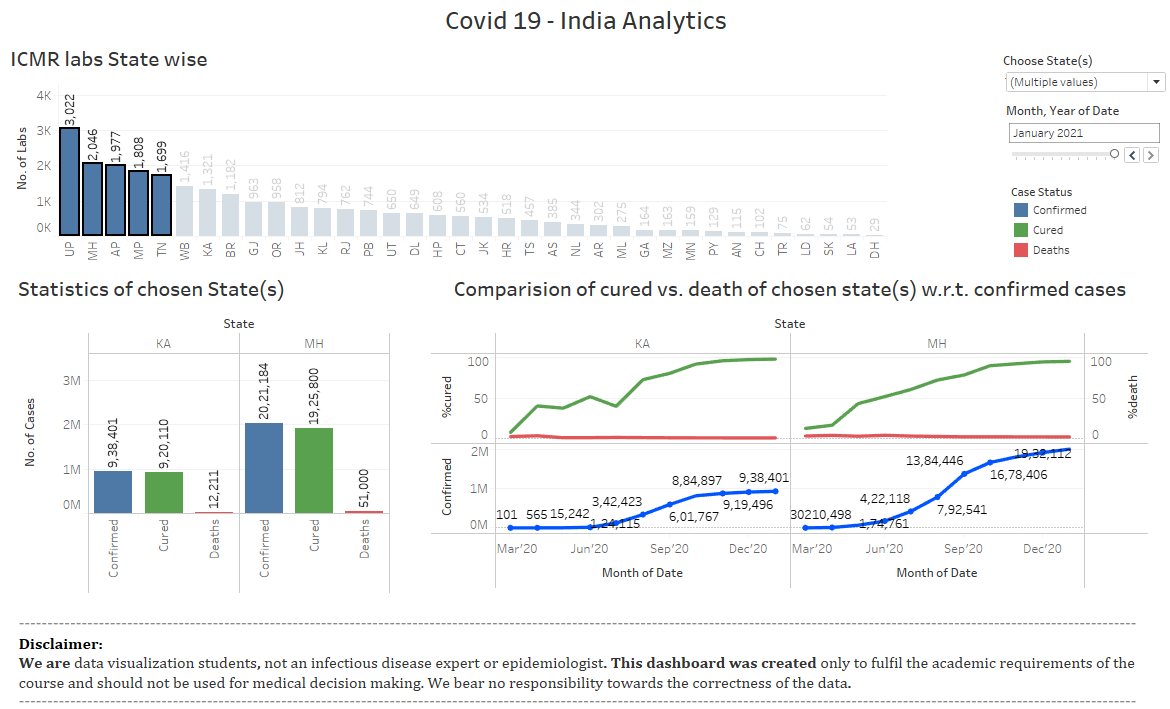

The page's visual inventory and layout, read from the dashboard file:
{"tool":"tableau","page":{"name":"Covid 19 - India Analytics","canvas":[1170,800],"ordinal":0},"visuals":[{"type":"worksheet","box":[0,0,1170,800]},{"type":"worksheet","param":"vert","box":[8,8,1154,784]},{"type":"worksheet","box":[8,8,1154,41]},{"type":"worksheet","title":"ICMR labs State wise","mark":"Automatic","box":[5.3,49,991.3,236]},{"type":"worksheet","title":"Statistics of chosen State(s)","mark":"Automatic","cols":["State"],"param":"[federated.15vyozv1t50qln128m3u11hnhf1u].[none:State:nk]","box":[1001.9,61,165.9,43]},{"type":"worksheet","title":"Statistics of chosen State(s)","mark":"Automatic","cols":["State"],"param":"[federated.15vyozv1t50qln128m3u11hnhf1u].[my:Date:ok]","box":[1005.1,111,157.4,69]},{"type":"worksheet","title":"Statistics of chosen State(s)","mark":"Automatic","cols":["State"],"param":"[federated.15vyozv1t50qln128m3u11hnhf1u].[:Measure Names]","box":[1010.5,193,130.8,78]},{"type":"worksheet","box":[35.1,208,114.9,42]},{"type":"worksheet","title":"Statistics of chosen State(s)","mark":"Automatic","cols":["State"],"box":[13,279,376,324]},{"type":"worksheet","title":"Comparision of cured vs. death of chosen state(s) w.r.t. confirmed cases","mark":"Automatic","rows":["Calculation_1011621073425752069","Calculation_1011621073426235398","Confirmed"],"cols":["State","Date"],"box":[429.7,279,718,319]},{"type":"worksheet","box":[14.9,621,1141.3,105]}]}

Visuals, with their boxes on the page's 1170x800 design canvas (x1, y1, x2, y2). These are canvas units, not pixel positions in the 1170x709 screenshot, which may show the page scaled, cropped or inside an application window:
worksheet: Rect(0, 0, 1170, 800)
worksheet: Rect(8, 8, 1162, 792)
worksheet: Rect(8, 8, 1162, 49)
"ICMR labs State wise" worksheet: Rect(5, 49, 997, 285)
"Statistics of chosen State(s)" worksheet: Rect(1002, 61, 1168, 104)
"Statistics of chosen State(s)" worksheet: Rect(1005, 111, 1162, 180)
"Statistics of chosen State(s)" worksheet: Rect(1010, 193, 1141, 271)
worksheet: Rect(35, 208, 150, 250)
"Statistics of chosen State(s)" worksheet: Rect(13, 279, 389, 603)
"Comparision of cured vs. death of chosen state(s) w.r.t. confirmed cases" worksheet: Rect(430, 279, 1148, 598)
worksheet: Rect(15, 621, 1156, 726)
